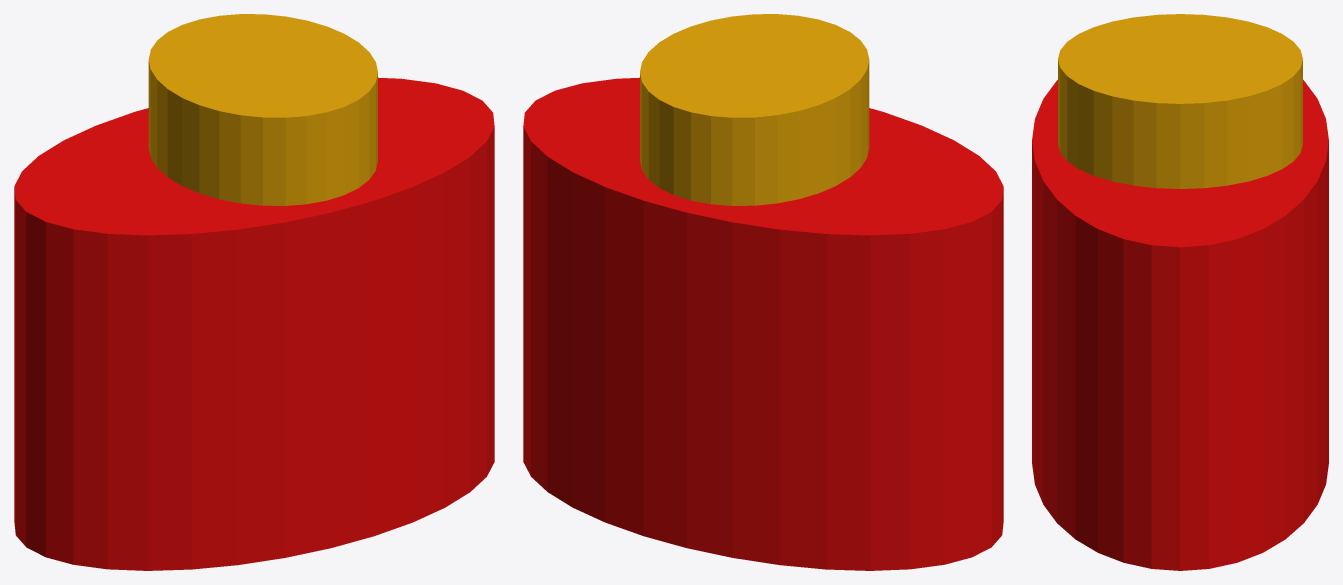
Rendered from saus.gltf.
3 views of the same model, side by side, from view 1: azimuth 30°, elevation 25°; view 2: azimuth 150°, elevation 25°; view 3: azimuth 270°, elevation 25° (orthographic). The views are drawn at different scales.
Visible parts, largest first — view 1: Cylinder, Cylinder.001; view 2: Cylinder, Cylinder.001; view 3: Cylinder, Cylinder.001.
Boxes of the visible parts, box(x1,y1,x2,y2) form: Cylinder: box(14, 77, 494, 570); Cylinder.001: box(148, 14, 377, 205); Cylinder: box(523, 77, 1003, 570); Cylinder.001: box(640, 14, 869, 205); Cylinder: box(1032, 80, 1328, 570); Cylinder.001: box(1058, 14, 1302, 188).
Bounding box in the file's own units: 1.18 × 1.04 × 0.687.
